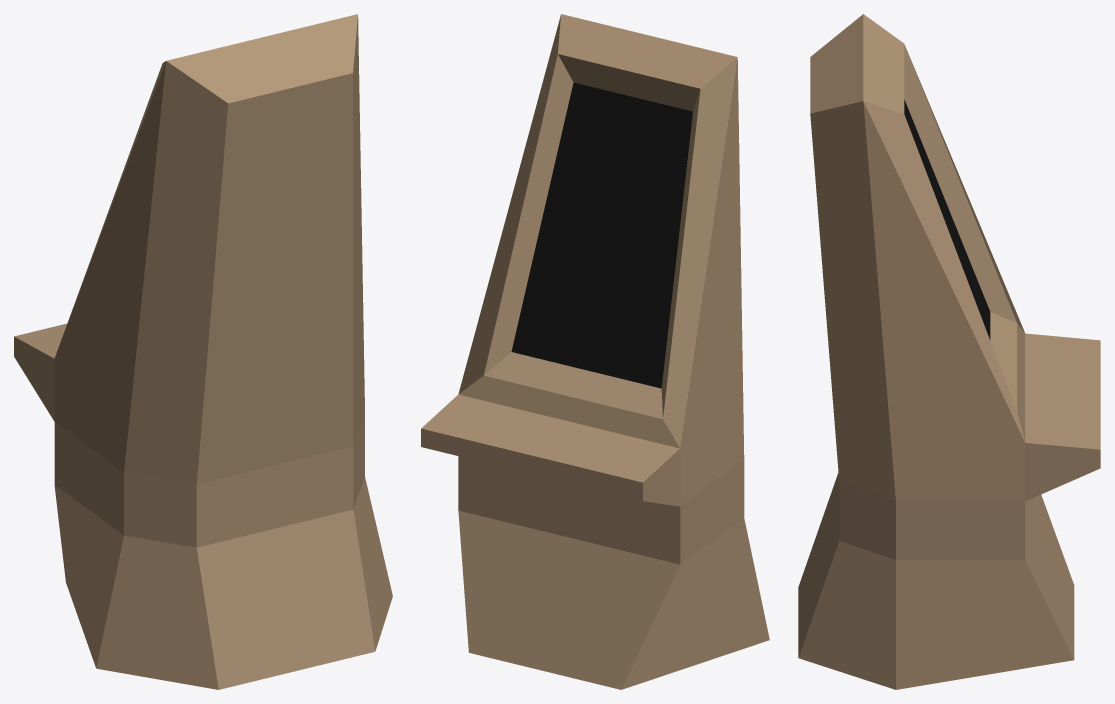
The model's file is terminal - Copy.fbx.
3 renders of one model, left to right at view 1: azimuth 30°, elevation 25°; view 2: azimuth 150°, elevation 25°; view 3: azimuth 270°, elevation 25°, orthographic. The views are drawn at different scales.
Parts seen in each view (by area): view 1: Cube; view 2: Cube; view 3: Cube.
Part boxes in pixels (x1,y1,x2,y2): Cube: (14, 14, 392, 689); Cube: (421, 14, 769, 689); Cube: (798, 14, 1100, 689).
Bounding box in the file's own units: 246 × 482 × 234.
